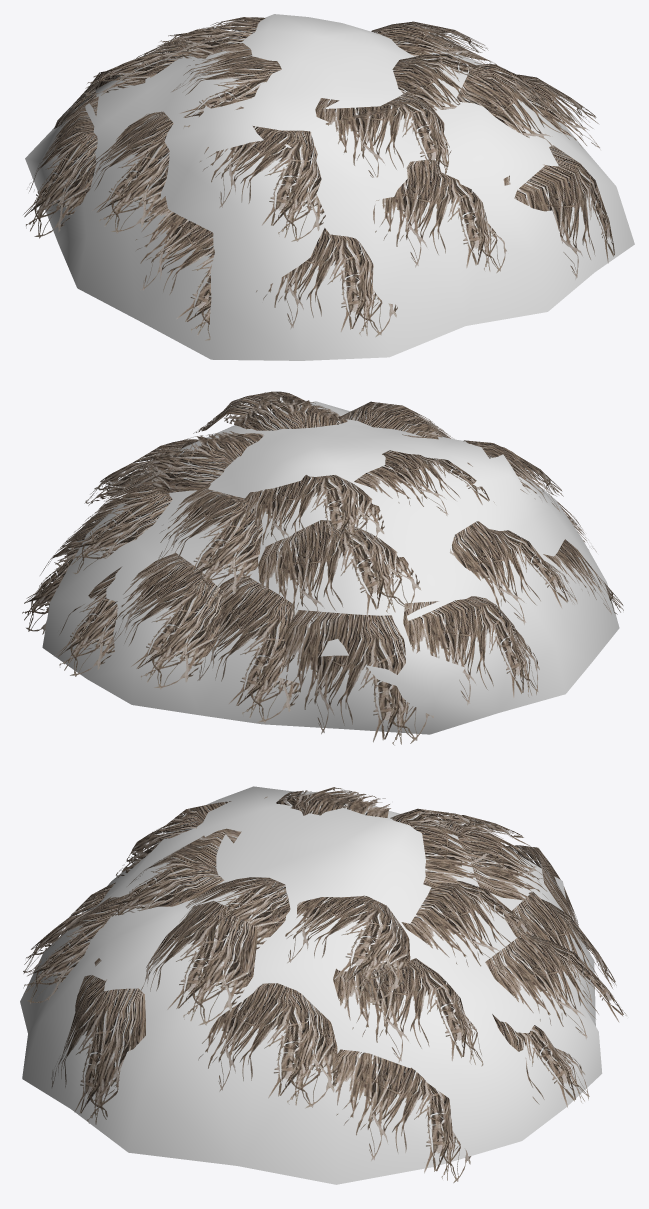
File: Haystack.fbx
3 views of the same model, one above another, from view 1: azimuth 30°, elevation 25°; view 2: azimuth 150°, elevation 25°; view 3: azimuth 270°, elevation 25° (orthographic). The views are drawn at different scales.
Visible parts, largest first — view 1: Icosphere, ThatchStraws.023; view 2: Icosphere, ThatchStraws.023; view 3: Icosphere, ThatchStraws.023.
Boxes of the visible parts, <box> form: Icosphere: <box>25,14,634,360</box>; ThatchStraws.023: <box>23,17,614,340</box>; Icosphere: <box>42,401,619,734</box>; ThatchStraws.023: <box>22,391,623,745</box>; Icosphere: <box>20,786,602,1184</box>; ThatchStraws.023: <box>23,787,626,1183</box>.
Size of the model in its own units: 328 by 133 by 316.
